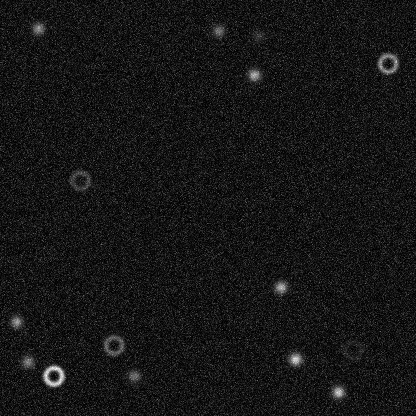Ring: (68, 168, 92, 192), (375, 51, 399, 75), (340, 337, 364, 361), (101, 333, 125, 357), (41, 363, 65, 387)
Spot: (245, 66, 261, 82), (125, 367, 141, 383), (19, 353, 35, 369), (330, 384, 346, 400), (8, 313, 24, 329), (287, 351, 303, 367), (210, 22, 226, 38), (272, 279, 288, 295), (29, 20, 45, 36), (250, 27, 266, 43)
